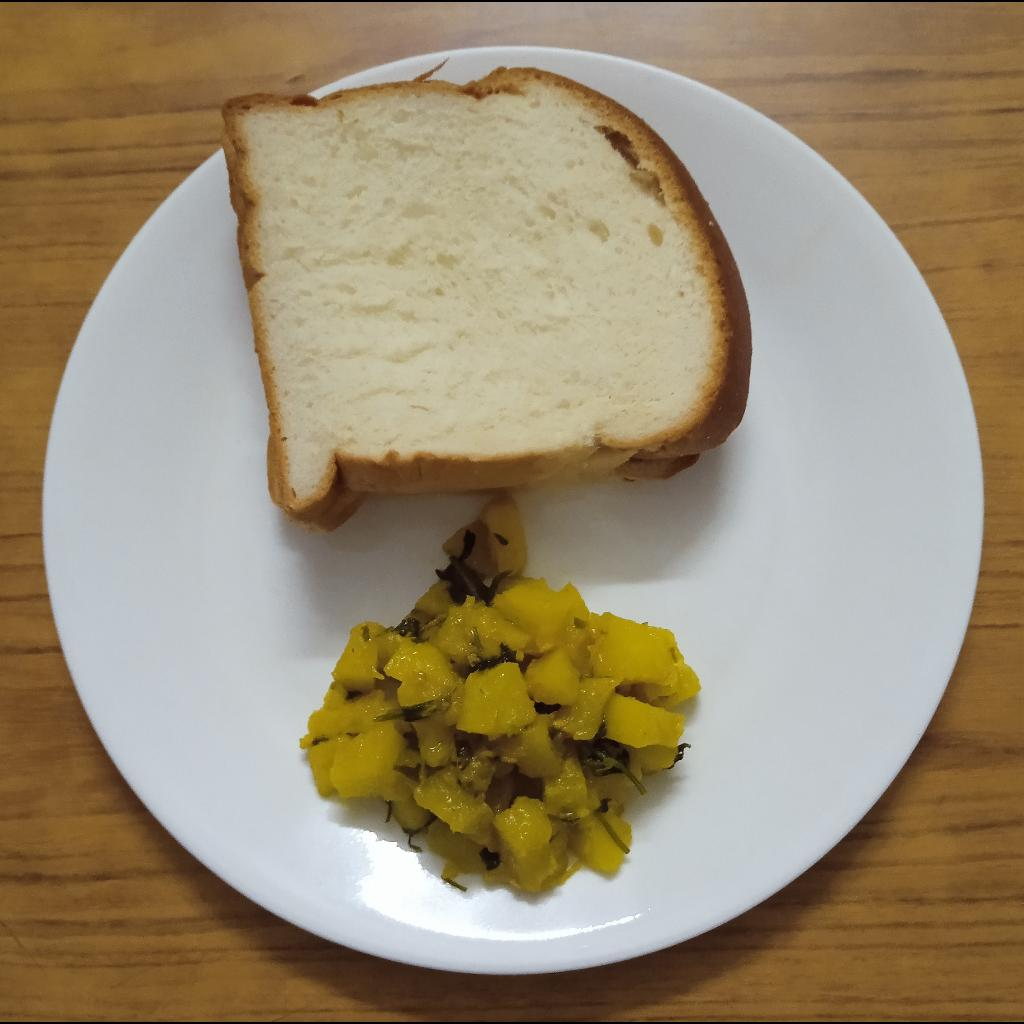bread: (219, 66, 752, 535)
vegetable: (300, 494, 705, 898)
